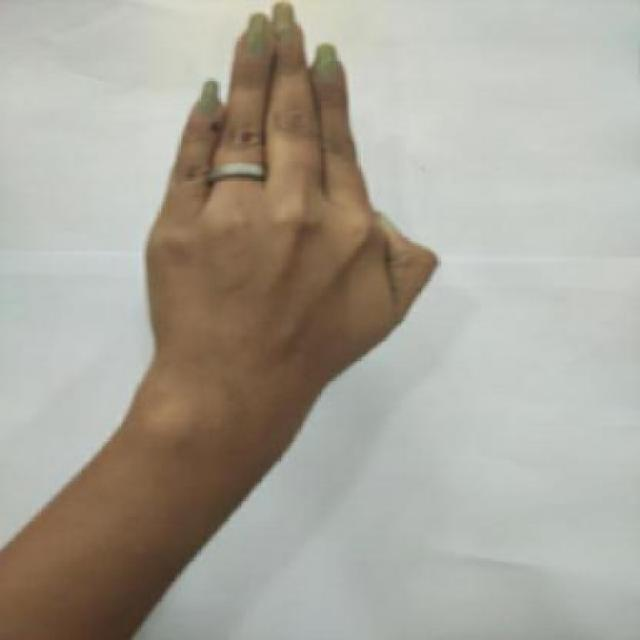without_gloves: (94, 1, 462, 510)
